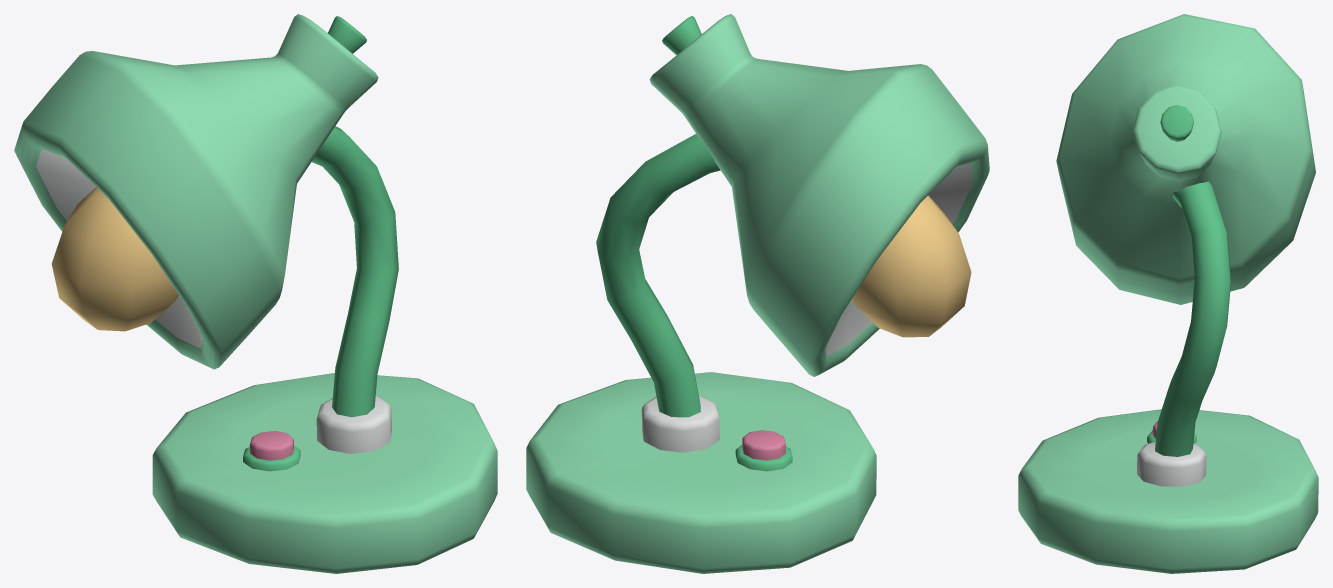
Rendered from props_lamp_to_check.fbx.
The picture shows the model from 3 angles, left to right: view 1: azimuth 30°, elevation 25°; view 2: azimuth 150°, elevation 25°; view 3: azimuth 270°, elevation 25°; orthographic projection. The views are drawn at different scales.
Parts seen in each view (by area): view 1: Lampe, Lampe.002, Lampe.004, Lampe.001, Lampe.003; view 2: Lampe, Lampe.002, Lampe.004, Lampe.001, Lampe.003; view 3: Lampe, Lampe.002, Lampe.001.
Part boxes in pixels (x1,y1,x2,y2): Lampe: (14, 14, 497, 573); Lampe.002: (243, 16, 398, 471); Lampe.004: (51, 187, 178, 331); Lampe.001: (36, 149, 391, 453); Lampe.003: (249, 431, 293, 460); Lampe: (526, 14, 989, 573); Lampe.002: (596, 16, 792, 471); Lampe.004: (851, 195, 971, 337); Lampe.001: (641, 163, 972, 452); Lampe.003: (742, 430, 785, 460); Lampe: (1018, 14, 1318, 573); Lampe.002: (1147, 105, 1230, 456); Lampe.001: (1137, 441, 1206, 486).
Size of the model in its own units: 89.98 by 103 by 65.57.
